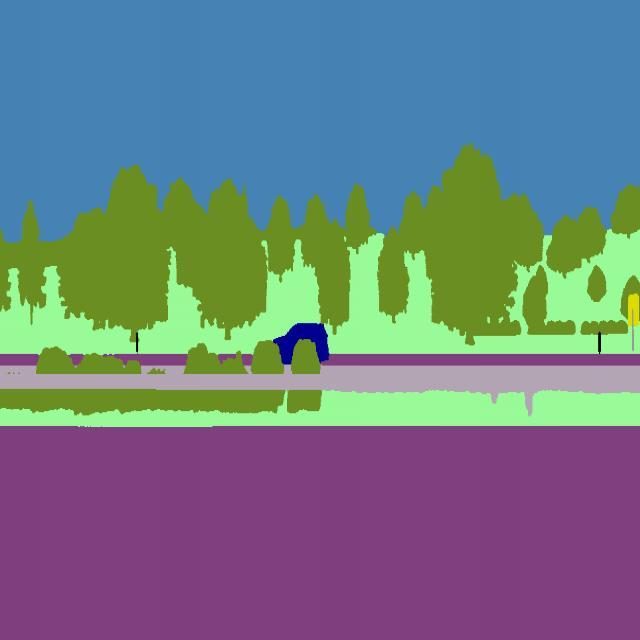safe: (266, 316, 338, 372)
